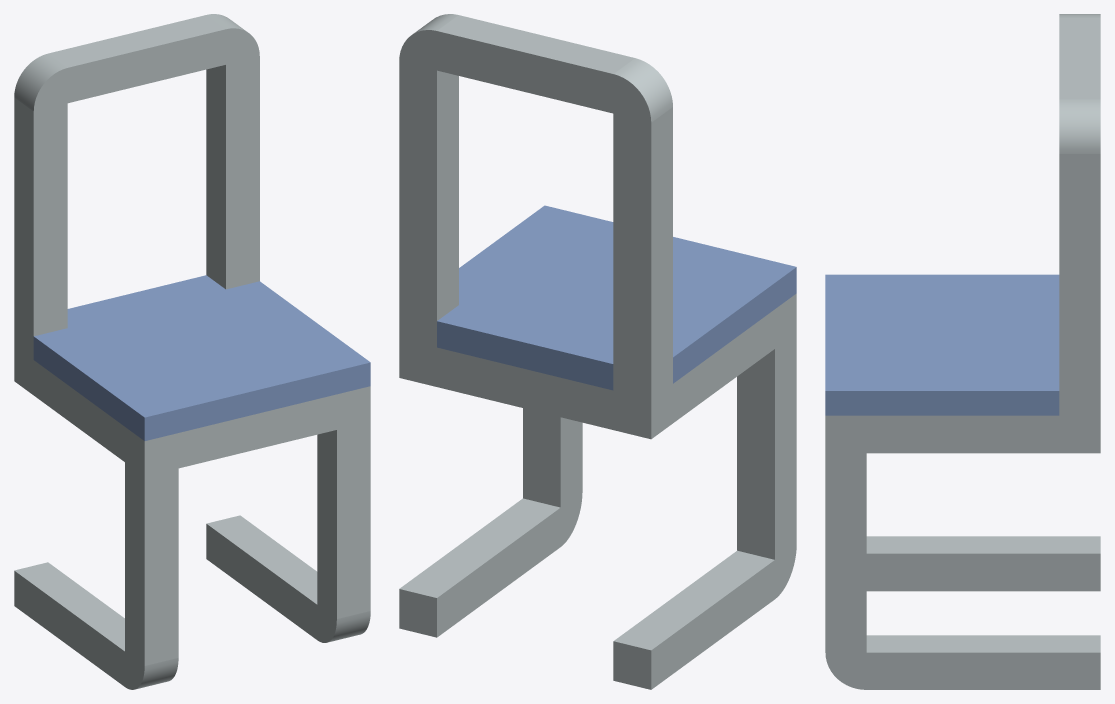
Rendered from chairModernFrameCushion.glb.
3 renders of one model, left to right at view 1: azimuth 30°, elevation 25°; view 2: azimuth 150°, elevation 25°; view 3: azimuth 270°, elevation 25°, orthographic. The views are drawn at different scales.
Parts seen in each view (by area): view 1: chairModernFrameCushion; view 2: chairModernFrameCushion; view 3: chairModernFrameCushion.
Part boxes in pixels (x1,y1,x2,y2): chairModernFrameCushion: (14,14,370,689); chairModernFrameCushion: (399,14,796,689); chairModernFrameCushion: (825,14,1100,689).
Bounding box in the file's own units: 0.2 × 0.46 × 0.2.
